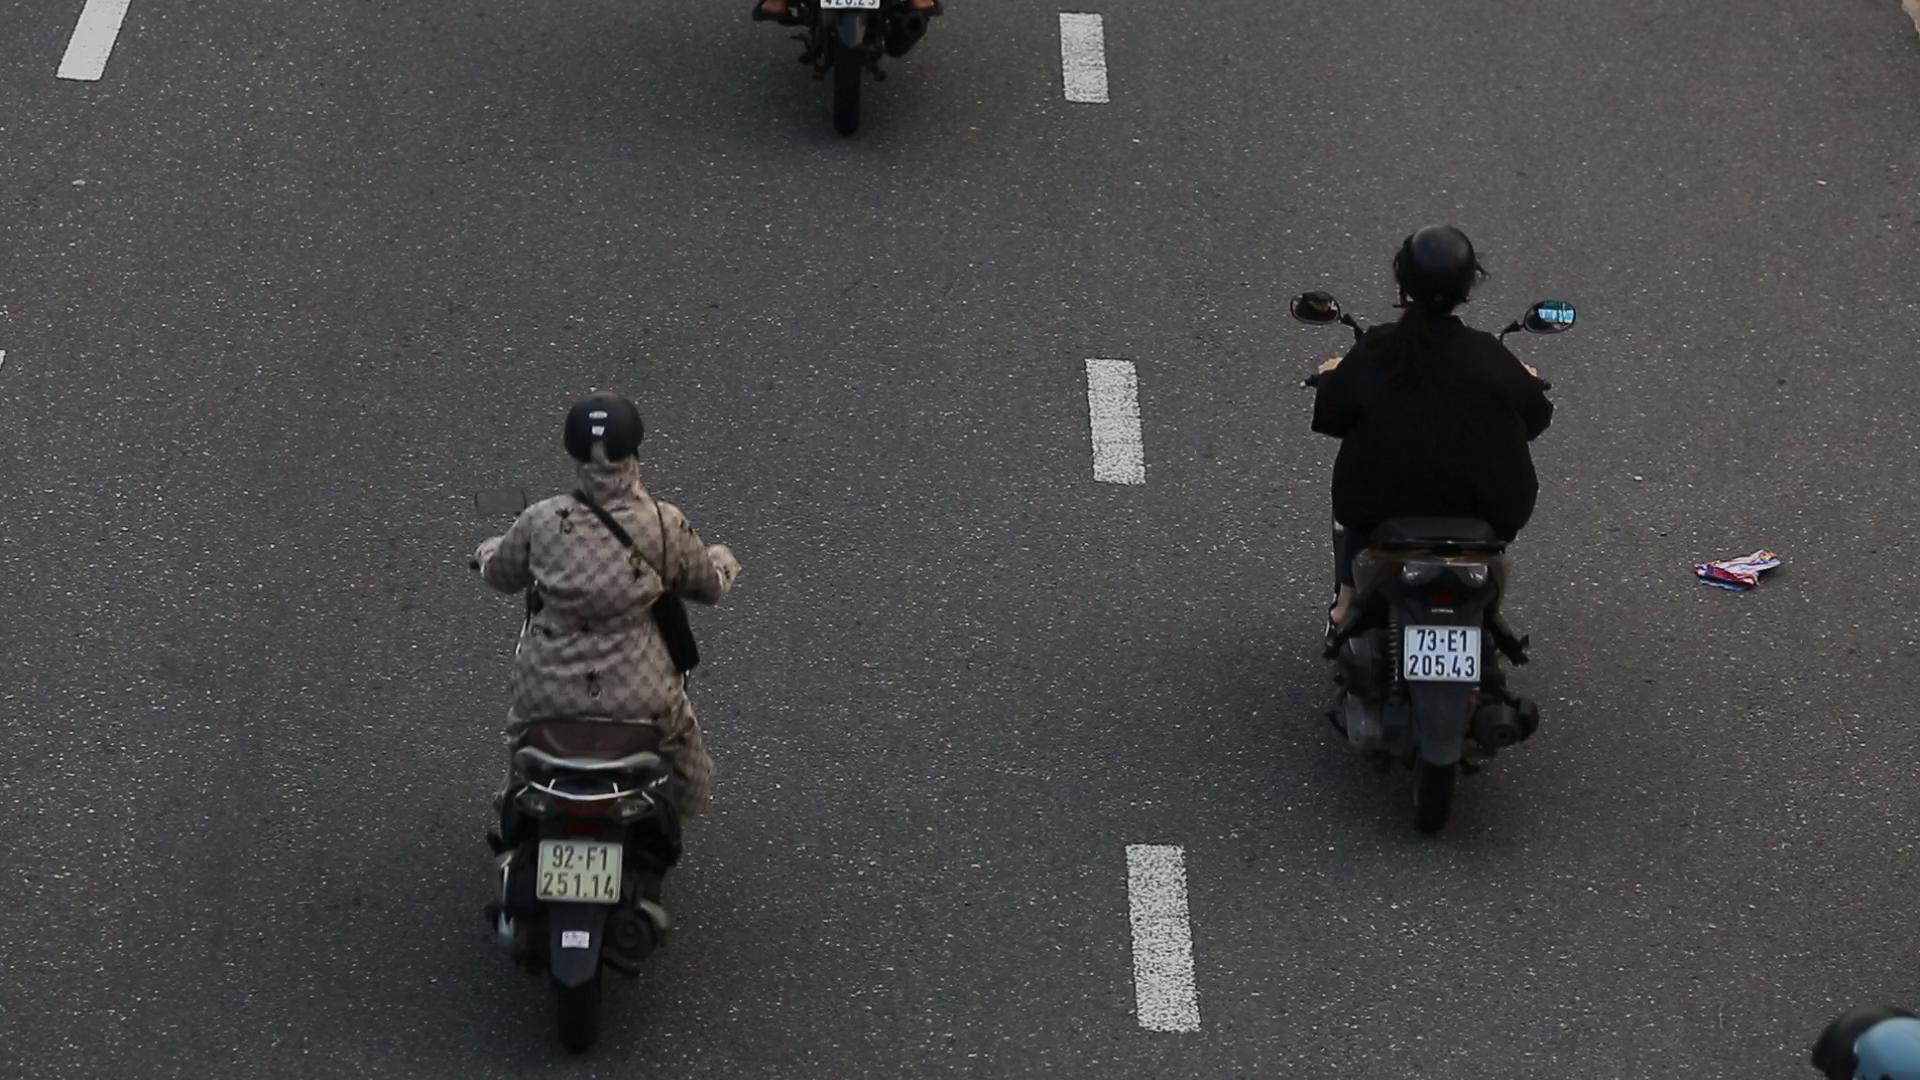motobike: (464, 381, 754, 1069), (1292, 202, 1581, 839)
